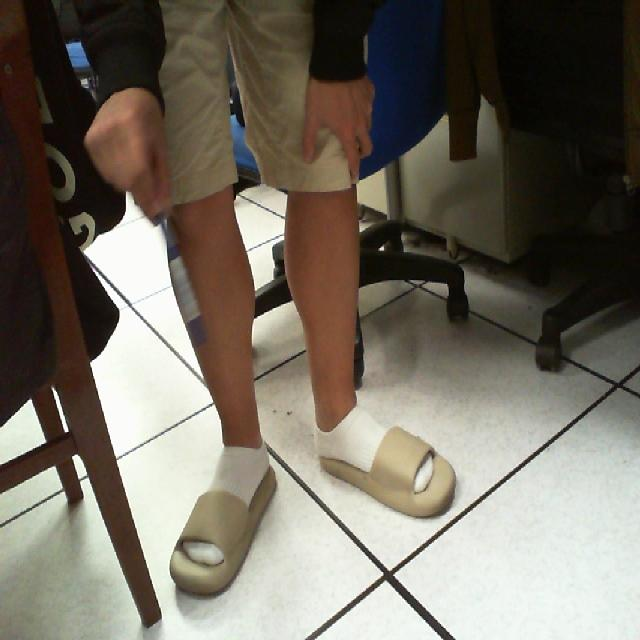Pen: (138, 135, 222, 390)
